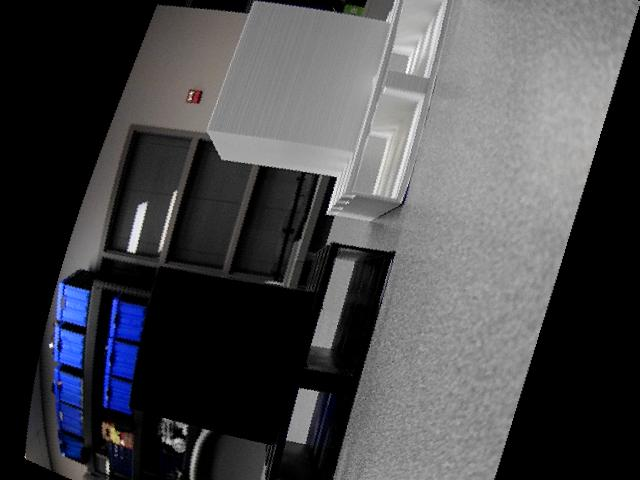black pallet: (126, 241, 399, 480)
white pallet: (203, 1, 455, 223)
